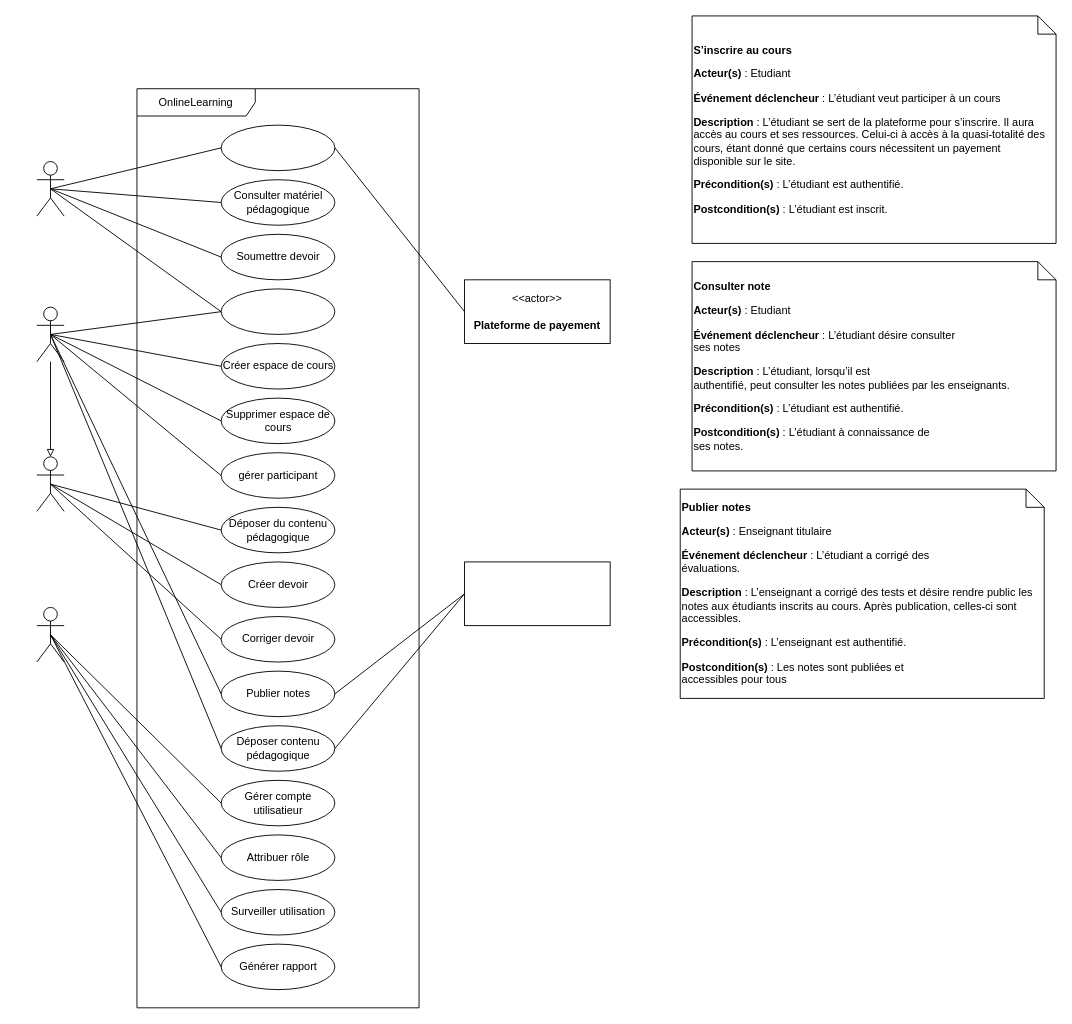
Some shapes in this 1072 by 1024 pixel diagram are drawn without their labels. The shapes that lost their labels are listed below. From the top down, each one's centre as x and y in pixels, then its label:
At (x=277, y=147): "S'inscrire au cours".
At (x=50, y=188): "Etudiant".
At (x=277, y=311): "Consulter notes".
At (x=50, y=334): "Enseignant Titulaire".
At (x=50, y=483): "Assistant".
At (x=537, y=593): "<<actor>> SMTP mail.".
At (x=50, y=634): "Administrateur".
